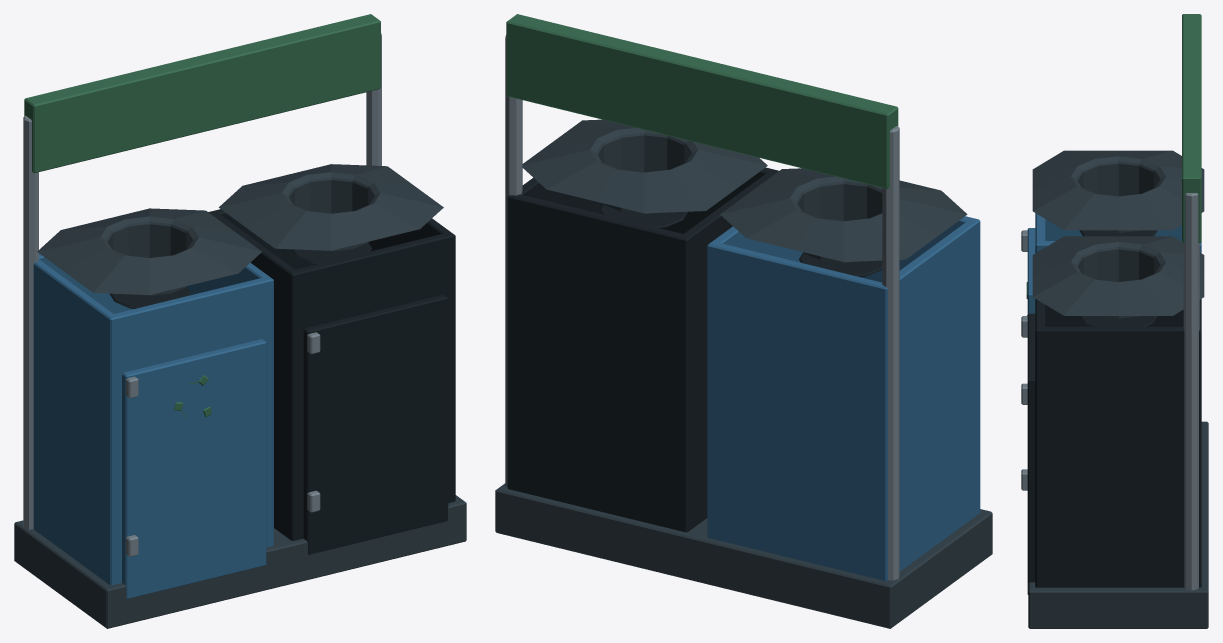
Rendered from b04_dual_stream_transit_bin_station.glb.
The picture shows the model from 3 angles, left to right: view 1: azimuth 30°, elevation 25°; view 2: azimuth 150°, elevation 25°; view 3: azimuth 270°, elevation 25°; orthographic projection. The views are drawn at different scales.
Visible parts, largest first — view 1: b04_dual_stream_transit_bin_station; view 2: b04_dual_stream_transit_bin_station; view 3: b04_dual_stream_transit_bin_station.
Part boxes in pixels (box(x1,y1,x2,y2)): b04_dual_stream_transit_bin_station: box(14, 14, 466, 628); b04_dual_stream_transit_bin_station: box(495, 14, 992, 628); b04_dual_stream_transit_bin_station: box(1021, 14, 1208, 628).
Size of the model in its own units: 1.43 by 1.76 by 0.665.
